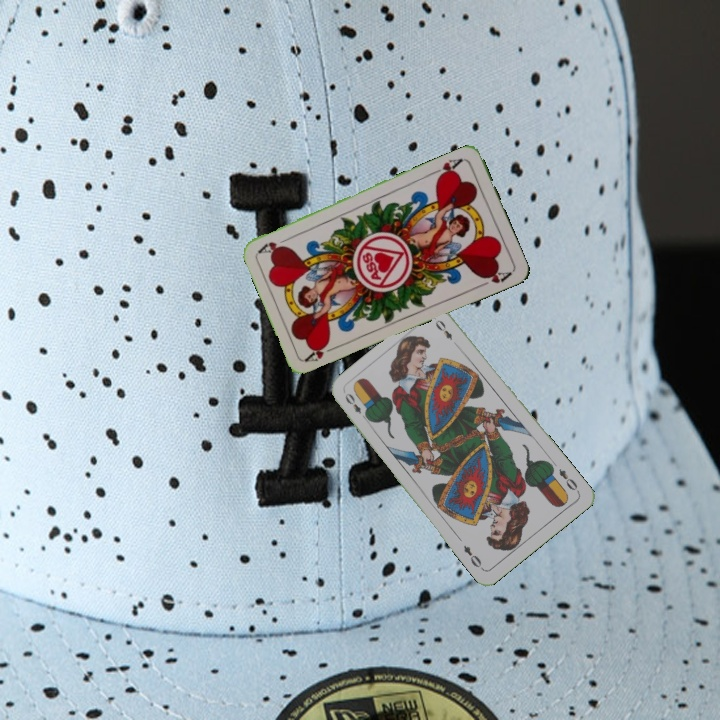EO: (341, 389, 371, 424), (554, 465, 582, 495)
HA: (428, 154, 466, 182), (302, 338, 341, 365)
